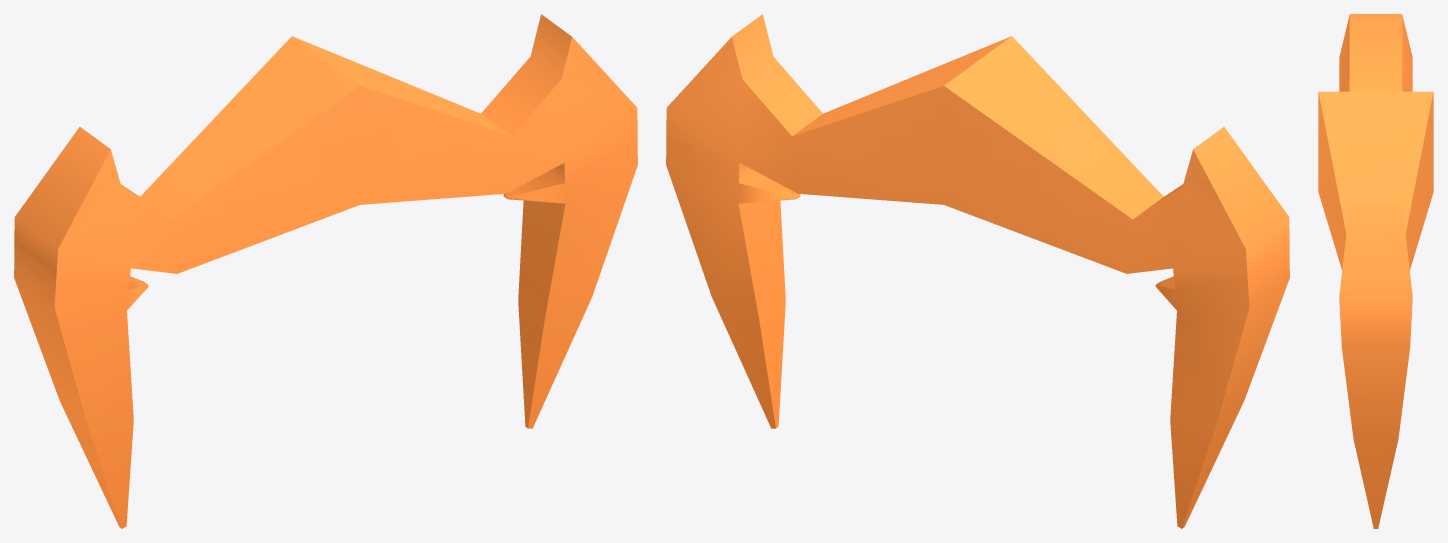
File: bronze_guard_073.glb
3 views of the same model, side by side, from view 1: azimuth 30°, elevation 25°; view 2: azimuth 150°, elevation 25°; view 3: azimuth 270°, elevation 25° (orthographic). The views are drawn at different scales.
Visible parts, largest first — view 1: bronze_guard_073; view 2: bronze_guard_073; view 3: bronze_guard_073.
Part boxes in pixels (x1=…): bronze_guard_073: x1=14, y1=14, x2=637, y2=528; bronze_guard_073: x1=666, y1=14, x2=1289, y2=528; bronze_guard_073: x1=1318, y1=14, x2=1433, y2=528.
Bounding box in the file's own units: 6.32 × 4.31 × 1.28.
Materials: 1 (1 with a texture image).
